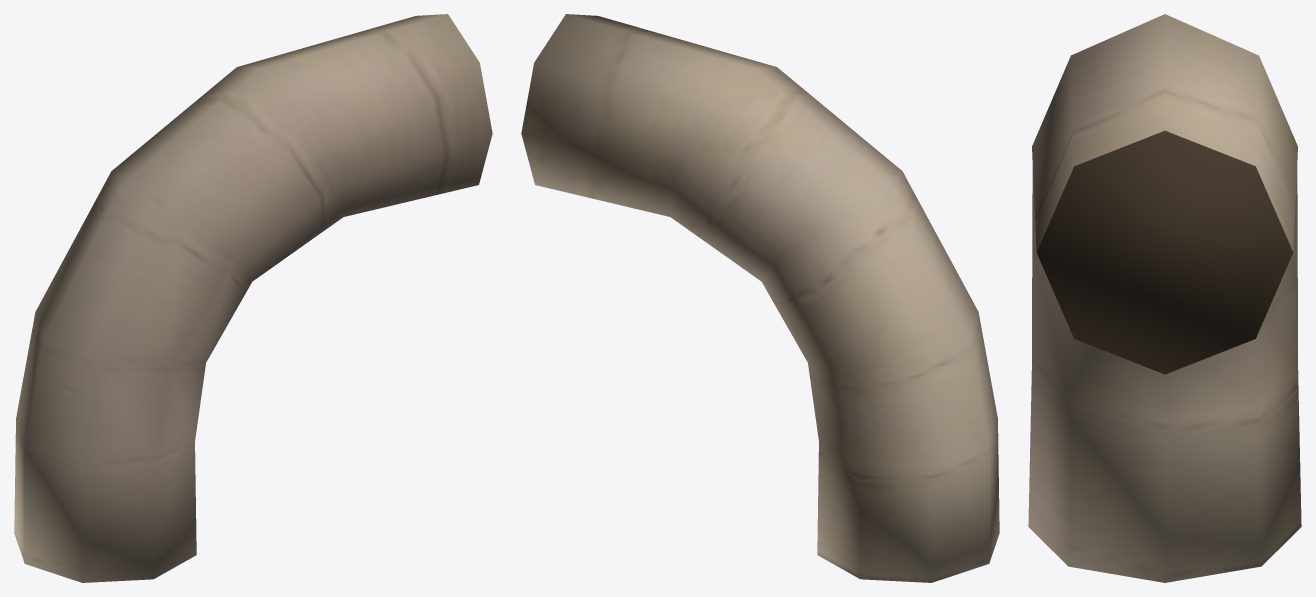
Rendered from pipe_bend.fbx.
3 views of the same model, side by side, from view 1: azimuth 30°, elevation 25°; view 2: azimuth 150°, elevation 25°; view 3: azimuth 270°, elevation 25° (orthographic). The views are drawn at different scales.
Parts seen in each view (by area): view 1: Cylinder; view 2: Cylinder; view 3: Cylinder.
Part boxes in pixels (<box>): Cylinder: <box>14,14,492,582</box>; Cylinder: <box>521,14,999,582</box>; Cylinder: <box>1028,14,1301,582</box>.
Size of the model in its own units: 162 by 164 by 63.99.
